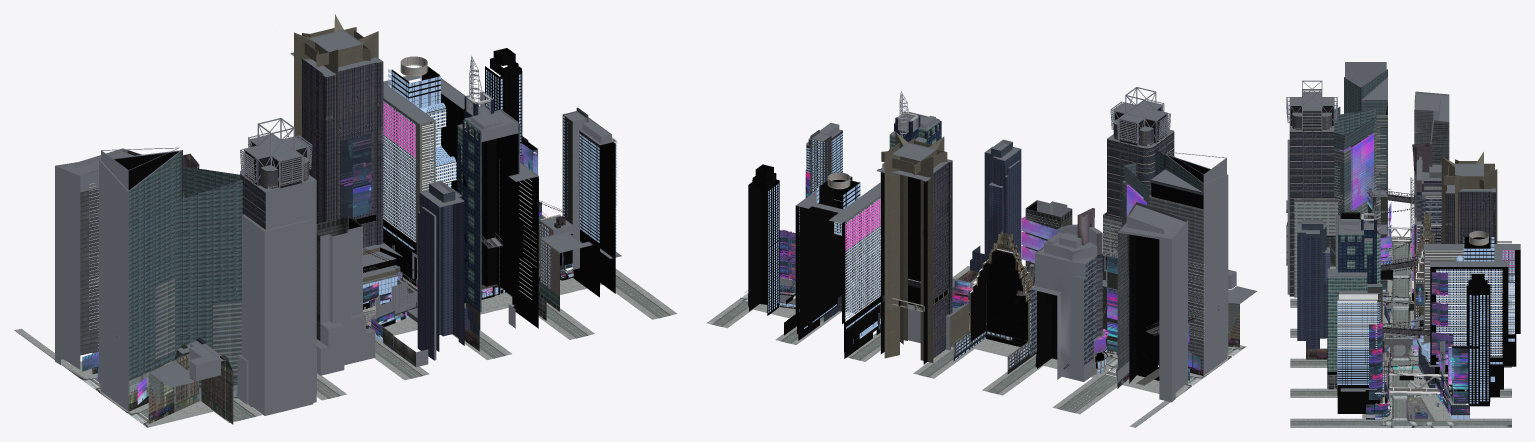
The model's file is citybest.glb.
3 renders of one model, left to right at view 1: azimuth 30°, elevation 25°; view 2: azimuth 150°, elevation 25°; view 3: azimuth 270°, elevation 25°, orthographic. The views are drawn at different scales.
Visible parts, largest first — view 1: Object_14, Object_180, Object_26, Object_41, Object_32, Object_11, Plane.007, Object_186, Object_189; view 2: Object_14, Object_26, Object_180, Object_41, Object_32, Object_11, Plane.007, Object_186, Object_189; view 3: Object_180, Object_14, Object_26, Object_32, Object_41, Object_11, Plane.007, Cube.031, Object_186, Object_4, BézierCurve.062, Cube.046 (+1 smaller).
Boxes of the visible parts, box(x1,y1,x2,y2) form: Object_14: box(55, 30, 621, 415); Object_180: box(80, 58, 538, 406); Object_26: box(114, 48, 615, 328); Object_41: box(92, 14, 615, 424); Object_32: box(14, 214, 677, 427); Object_11: box(340, 107, 587, 314); Plane.007: box(89, 112, 617, 347); Object_186: box(82, 245, 417, 404); Object_189: box(368, 102, 415, 329); Object_14: box(740, 87, 1257, 402); Object_26: box(748, 156, 1209, 383); Object_180: box(882, 111, 1210, 370); Object_41: box(806, 101, 1239, 388); Object_32: box(706, 266, 1246, 427); Object_11: box(748, 130, 1189, 343); Plane.007: box(799, 139, 1204, 340); Object_186: box(823, 250, 1200, 380); Object_189: box(845, 127, 1164, 250); Object_180: box(1289, 69, 1495, 371); Object_14: box(1286, 62, 1520, 427); Object_26: box(1326, 103, 1520, 418); Object_32: box(1290, 241, 1511, 427); Object_41: box(1286, 106, 1514, 403); Object_11: box(1339, 133, 1469, 418); Plane.007: box(1330, 135, 1514, 357); Cube.031: box(1380, 191, 1430, 335); Object_186: box(1367, 191, 1447, 406); Object_4: box(1388, 227, 1451, 389); BézierCurve.062: box(1381, 208, 1447, 381); Cube.046: box(1383, 334, 1418, 357).
Size of the model in its own units: 29.8 by 20.82 by 15.74.
21 materials, 19 textured.
